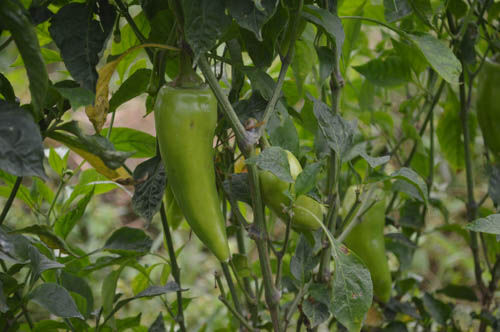ChiliPepper: (153, 87, 231, 262), (345, 185, 392, 306), (258, 150, 324, 229)
